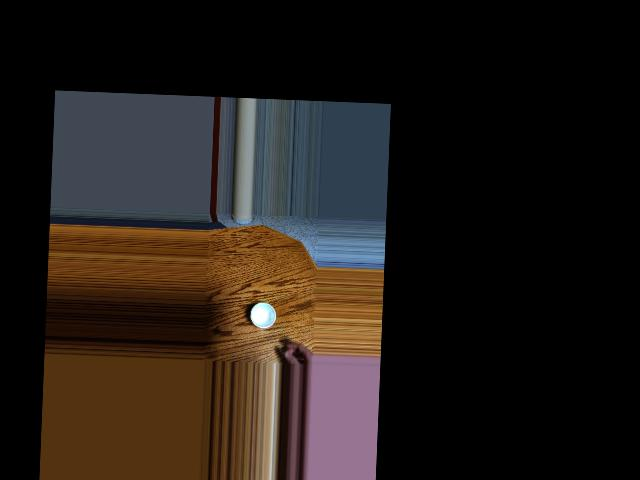cotage: (249, 299, 279, 333)
